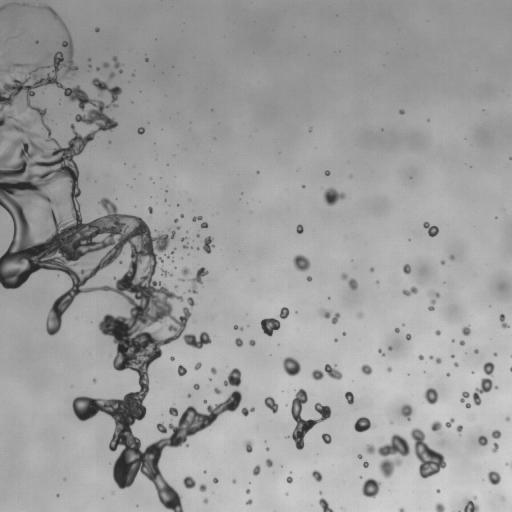droplet: (323, 187, 346, 206), (361, 478, 381, 498), (317, 307, 340, 324), (282, 356, 301, 376), (353, 416, 376, 432), (223, 368, 242, 386), (292, 254, 310, 271), (324, 364, 342, 380), (427, 289, 440, 310), (422, 221, 439, 237), (423, 387, 438, 404), (264, 396, 278, 413), (202, 235, 215, 253), (400, 403, 413, 421), (463, 497, 479, 511), (487, 470, 501, 485), (309, 368, 325, 380), (430, 420, 443, 434), (182, 476, 195, 489), (344, 391, 354, 405), (241, 406, 255, 416), (243, 439, 253, 453), (311, 470, 322, 482), (361, 364, 372, 375), (168, 406, 179, 417), (54, 30, 65, 41), (64, 77, 75, 88), (86, 86, 97, 97), (100, 90, 111, 101), (95, 130, 106, 141), (323, 178, 334, 189), (143, 215, 154, 226), (179, 217, 190, 228), (156, 224, 167, 235), (198, 255, 209, 266), (161, 259, 172, 270), (402, 276, 413, 287), (61, 278, 72, 289), (162, 278, 173, 289), (416, 289, 427, 300), (108, 290, 119, 301), (171, 306, 182, 317), (120, 308, 131, 319), (184, 323, 195, 334), (104, 334, 115, 345), (441, 358, 452, 369), (299, 365, 310, 376), (123, 367, 134, 378), (280, 405, 291, 416), (300, 409, 311, 420), (104, 415, 115, 426), (409, 417, 420, 428), (129, 421, 140, 432), (151, 430, 162, 441), (303, 430, 314, 441), (161, 445, 172, 456), (406, 451, 417, 462), (248, 453, 259, 464), (371, 453, 382, 464), (497, 466, 508, 477), (372, 470, 383, 481), (134, 471, 145, 482), (173, 482, 184, 493), (177, 364, 187, 376), (181, 266, 191, 277), (321, 433, 331, 444), (477, 435, 487, 446), (462, 324, 471, 336), (491, 429, 501, 439), (252, 464, 260, 476), (435, 502, 445, 511), (491, 442, 499, 453), (456, 424, 463, 436), (27, 54, 36, 63), (10, 129, 19, 138), (76, 176, 85, 185), (167, 194, 176, 203), (317, 196, 326, 205), (334, 198, 343, 207), (141, 213, 150, 222), (200, 228, 209, 237), (166, 239, 175, 248), (175, 247, 184, 256), (286, 260, 295, 269), (175, 336, 184, 345), (184, 361, 193, 370), (200, 364, 209, 373), (226, 384, 235, 393), (198, 405, 207, 414), (95, 410, 104, 419), (170, 416, 179, 425), (382, 436, 391, 445), (406, 437, 415, 446), (373, 439, 382, 448), (428, 441, 437, 450), (156, 459, 165, 468), (105, 465, 114, 474), (391, 465, 400, 474), (204, 479, 213, 488), (434, 494, 443, 503), (403, 264, 411, 274), (235, 337, 243, 347), (265, 458, 273, 467), (296, 224, 303, 234), (233, 324, 243, 331), (505, 313, 511, 324), (243, 505, 254, 511), (213, 387, 222, 394), (199, 483, 206, 492), (505, 460, 511, 470), (137, 127, 145, 134), (356, 311, 363, 319), (194, 362, 201, 370), (210, 366, 217, 374), (285, 476, 293, 483), (43, 0, 54, 5), (0, 144, 5, 155), (248, 339, 255, 346), (46, 13, 53, 20), (51, 19, 58, 26), (71, 40, 78, 47), (107, 64, 114, 71), (17, 74, 24, 81), (98, 75, 105, 82), (107, 81, 114, 88), (116, 92, 123, 99), (102, 108, 109, 115), (335, 186, 342, 193), (116, 207, 123, 214), (100, 209, 107, 216), (184, 213, 191, 220), (81, 216, 88, 223), (174, 231, 181, 238), (188, 231, 195, 238), (164, 246, 171, 253), (299, 249, 306, 256), (409, 264, 416, 271), (37, 267, 44, 274), (302, 269, 309, 276), (174, 270, 181, 277), (189, 270, 196, 277), (60, 271, 67, 278), (347, 271, 354, 278), (28, 272, 35, 279), (151, 273, 158, 280), (355, 277, 362, 284), (341, 279, 348, 286), (20, 281, 27, 288), (185, 281, 192, 288), (167, 285, 174, 292), (58, 287, 65, 294), (53, 291, 60, 298), (74, 293, 81, 300), (46, 300, 53, 307), (68, 302, 75, 309), (111, 310, 118, 317), (60, 312, 67, 319), (96, 314, 103, 321), (399, 328, 406, 335), (95, 329, 102, 336), (234, 330, 241, 337), (458, 333, 465, 340), (337, 334, 344, 341), (241, 337, 248, 344), (159, 344, 166, 351), (187, 344, 194, 351), (489, 356, 496, 363), (149, 360, 156, 367), (298, 361, 305, 368), (334, 364, 341, 371), (448, 365, 455, 372), (281, 371, 288, 378), (132, 372, 139, 379), (284, 373, 291, 380), (292, 373, 299, 380), (133, 384, 140, 391), (420, 385, 427, 392), (190, 388, 197, 395), (89, 392, 96, 399), (478, 392, 485, 399), (117, 393, 124, 400), (466, 395, 473, 402), (141, 399, 148, 406), (186, 399, 193, 406), (237, 401, 244, 408), (395, 403, 402, 410), (410, 403, 417, 410), (235, 405, 242, 412), (223, 409, 230, 416), (314, 412, 321, 419), (70, 413, 77, 420), (211, 419, 218, 426), (290, 419, 297, 426), (450, 421, 457, 428), (202, 426, 209, 433), (166, 428, 173, 435), (196, 429, 203, 436), (361, 429, 368, 436), (186, 434, 193, 441), (487, 436, 494, 443), (288, 438, 295, 445), (138, 444, 145, 451), (264, 451, 271, 458), (442, 455, 449, 462), (414, 459, 421, 466), (259, 462, 266, 469), (430, 473, 437, 480), (358, 478, 365, 485), (483, 478, 490, 485), (146, 479, 153, 486), (111, 481, 118, 488), (192, 484, 199, 491), (377, 485, 384, 492), (200, 490, 207, 497), (179, 497, 186, 504), (363, 460, 369, 468), (476, 506, 485, 511), (102, 62, 109, 68), (405, 333, 411, 340), (435, 357, 441, 364), (193, 383, 199, 390), (245, 499, 252, 505), (449, 254, 455, 260), (386, 366, 392, 372), (357, 453, 363, 459), (0, 247, 4, 256), (398, 109, 405, 114), (324, 170, 330, 175), (369, 267, 374, 273), (306, 276, 312, 281), (394, 327, 399, 333), (435, 330, 441, 335), (459, 340, 465, 345), (418, 354, 423, 360), (453, 362, 459, 367), (213, 477, 218, 483), (245, 488, 250, 494), (203, 497, 208, 503), (398, 507, 405, 511), (165, 507, 172, 511), (316, 507, 323, 511), (430, 507, 437, 511), (443, 507, 450, 511), (173, 218, 178, 223), (440, 260, 445, 265), (92, 378, 97, 383), (202, 399, 207, 404), (505, 416, 510, 421), (472, 495, 477, 500), (22, 5, 27, 10), (52, 6, 57, 11), (61, 16, 66, 21), (57, 39, 62, 44), (71, 55, 76, 60), (116, 57, 121, 62), (13, 58, 18, 63), (17, 58, 22, 63), (109, 60, 114, 65), (72, 61, 77, 66), (97, 62, 102, 67), (118, 64, 123, 69), (90, 65, 95, 70), (15, 66, 20, 71), (22, 67, 27, 72), (113, 68, 118, 73), (66, 71, 71, 76), (9, 80, 14, 85), (79, 85, 84, 90), (398, 104, 403, 109), (403, 107, 408, 112), (111, 126, 116, 131), (105, 128, 110, 133), (98, 129, 103, 134), (86, 140, 91, 145), (72, 155, 77, 160), (344, 191, 349, 196), (163, 192, 168, 197), (76, 195, 81, 200), (96, 195, 101, 200), (113, 200, 118, 205), (151, 206, 156, 211), (129, 210, 134, 215), (194, 211, 199, 216), (135, 212, 140, 217), (175, 213, 180, 218), (177, 217, 182, 222), (201, 217, 206, 222), (196, 219, 201, 224), (175, 221, 180, 226), (148, 226, 153, 231), (166, 231, 171, 236), (298, 232, 303, 237), (433, 234, 438, 239), (182, 239, 187, 244), (199, 241, 204, 246), (185, 247, 190, 252), (199, 248, 204, 253), (444, 257, 449, 262), (173, 260, 178, 265), (437, 263, 442, 268), (195, 264, 200, 269), (177, 265, 182, 270), (154, 266, 159, 271), (398, 266, 403, 271), (402, 272, 407, 277), (178, 273, 183, 278), (336, 273, 341, 278), (200, 275, 205, 280), (176, 280, 181, 285), (194, 281, 199, 286), (414, 283, 419, 288), (405, 285, 410, 290), (7, 287, 12, 292), (434, 287, 439, 292), (95, 289, 100, 294), (100, 289, 105, 294), (106, 289, 111, 294), (89, 290, 94, 295), (174, 290, 179, 295), (189, 292, 194, 297), (409, 292, 414, 297), (400, 293, 405, 298), (182, 294, 187, 299), (166, 297, 171, 302), (192, 297, 197, 302), (435, 297, 440, 302), (426, 301, 431, 306), (185, 303, 190, 308), (179, 311, 184, 316), (287, 312, 292, 317), (329, 312, 334, 317), (266, 313, 271, 318), (174, 314, 179, 319), (494, 314, 499, 319), (257, 316, 262, 321), (276, 316, 281, 321), (337, 316, 342, 321), (326, 317, 331, 322), (503, 317, 508, 322), (496, 320, 501, 325), (256, 322, 261, 327), (462, 322, 467, 327), (59, 323, 64, 328), (278, 325, 283, 330), (436, 325, 441, 330), (468, 325, 473, 330), (258, 327, 263, 332), (57, 328, 62, 333), (42, 329, 47, 334), (271, 329, 276, 334), (440, 330, 445, 335), (54, 331, 59, 336), (262, 332, 267, 337), (208, 334, 213, 339), (434, 334, 439, 339), (230, 339, 235, 344), (454, 339, 459, 344), (169, 340, 174, 345), (201, 343, 206, 348), (391, 344, 396, 349), (238, 345, 243, 350), (477, 346, 482, 351), (381, 347, 386, 352), (468, 348, 473, 353), (423, 354, 428, 359), (108, 357, 113, 362), (450, 357, 455, 362), (430, 358, 435, 363), (440, 358, 445, 363), (191, 360, 196, 365), (386, 361, 391, 366), (479, 361, 484, 366), (329, 362, 334, 367), (368, 362, 373, 367), (437, 362, 442, 367), (233, 363, 238, 368), (173, 365, 178, 370), (214, 365, 219, 370), (238, 367, 243, 372), (382, 368, 387, 373), (491, 369, 496, 374), (173, 370, 178, 375), (322, 370, 327, 375), (359, 371, 364, 376), (208, 372, 213, 377), (368, 372, 373, 377), (182, 373, 187, 378), (483, 373, 488, 378), (239, 375, 244, 380), (316, 378, 321, 383), (491, 380, 496, 385), (147, 383, 152, 388), (476, 383, 481, 388), (431, 384, 436, 389), (343, 387, 348, 392), (489, 387, 494, 392), (209, 388, 214, 393), (435, 388, 440, 393), (305, 390, 310, 395), (340, 390, 345, 395), (351, 390, 356, 395), (436, 391, 441, 396), (76, 392, 81, 397), (457, 393, 462, 398), (290, 394, 295, 399), (352, 396, 357, 401), (273, 398, 278, 403), (342, 398, 347, 403), (423, 399, 428, 404), (434, 400, 439, 405), (287, 401, 292, 406), (321, 401, 326, 406), (479, 401, 484, 406), (67, 402, 72, 407), (300, 402, 305, 407), (460, 402, 465, 407), (210, 403, 215, 408), (245, 404, 250, 409), (266, 407, 271, 412), (276, 407, 281, 412), (164, 409, 169, 414), (286, 409, 291, 414), (144, 410, 149, 415), (177, 411, 182, 416), (247, 411, 252, 416), (329, 411, 334, 416), (364, 413, 369, 418), (408, 413, 413, 418), (500, 414, 505, 419), (401, 415, 406, 420), (141, 416, 146, 421), (324, 417, 329, 422), (368, 417, 373, 422), (133, 418, 138, 423), (156, 418, 161, 423), (351, 418, 356, 423), (163, 422, 168, 427), (440, 422, 445, 427), (494, 425, 499, 430), (350, 426, 355, 431), (461, 426, 466, 431), (499, 433, 504, 438), (107, 434, 112, 439), (473, 435, 478, 440), (318, 437, 323, 442), (330, 437, 335, 442), (493, 437, 498, 442), (265, 441, 270, 446), (326, 442, 331, 447), (241, 446, 246, 451), (105, 447, 110, 452), (496, 447, 501, 452), (297, 448, 302, 453), (489, 451, 494, 456), (270, 457, 275, 462), (358, 458, 363, 463), (249, 464, 254, 469), (269, 465, 274, 470), (490, 466, 495, 471), (438, 467, 443, 472), (136, 470, 141, 475), (307, 470, 312, 475), (319, 470, 324, 475), (290, 473, 295, 478), (180, 474, 185, 479), (310, 476, 315, 481), (484, 476, 489, 481), (497, 480, 502, 485), (194, 482, 199, 487), (245, 483, 250, 488), (491, 483, 496, 488), (123, 486, 128, 491), (152, 489, 157, 494), (375, 492, 380, 497), (245, 494, 250, 499), (316, 494, 321, 499), (367, 495, 372, 500), (154, 496, 159, 501), (472, 499, 477, 504), (396, 503, 401, 508), (459, 505, 464, 510), (17, 0, 24, 3), (0, 82, 3, 89), (95, 27, 99, 32), (96, 66, 100, 71), (308, 127, 312, 132), (473, 349, 478, 353), (429, 355, 433, 360), (450, 354, 455, 358), (170, 356, 174, 361), (446, 372, 450, 377), (389, 420, 393, 425), (232, 478, 236, 483), (348, 174, 352, 178), (301, 184, 305, 188), (118, 260, 122, 264), (375, 280, 379, 284), (342, 331, 346, 335), (334, 338, 338, 342), (388, 346, 392, 350), (493, 352, 497, 356), (187, 393, 191, 397), (265, 447, 269, 451), (358, 475, 362, 479), (436, 489, 440, 493), (501, 496, 505, 500), (0, 0, 4, 4), (145, 57, 148, 62), (180, 213, 183, 218), (196, 232, 199, 237), (319, 490, 322, 495), (394, 508, 399, 511), (403, 508, 408, 511), (35, 40, 38, 44), (88, 64, 91, 68), (131, 73, 135, 76), (256, 170, 259, 174), (196, 246, 199, 250), (401, 323, 405, 326), (246, 324, 250, 327), (208, 378, 212, 381), (63, 477, 66, 481), (481, 478, 485, 481), (111, 490, 114, 494), (56, 493, 59, 497), (9, 0, 14, 2), (22, 0, 27, 2), (0, 1, 2, 6), (0, 112, 2, 117), (0, 204, 2, 209), (88, 58, 91, 61), (108, 140, 111, 143), (166, 163, 169, 166), (149, 177, 152, 180), (188, 198, 191, 201), (494, 216, 497, 219), (185, 230, 188, 233), (408, 238, 411, 241), (180, 256, 183, 259), (350, 259, 353, 262), (174, 266, 177, 269), (251, 279, 254, 282), (174, 285, 177, 288), (294, 311, 297, 314), (451, 339, 454, 342), (471, 371, 474, 374), (203, 470, 206, 473), (289, 470, 292, 473), (285, 492, 288, 495), (35, 3, 38, 6), (1, 9, 4, 12), (96, 24, 99, 27), (66, 25, 69, 28), (98, 28, 101, 31), (92, 30, 95, 33), (96, 31, 99, 34), (33, 37, 36, 40), (38, 40, 41, 43), (52, 50, 55, 53), (113, 52, 116, 55), (88, 54, 91, 57), (145, 54, 148, 57), (141, 58, 144, 61), (147, 58, 150, 61), (88, 61, 91, 64), (144, 61, 147, 64), (86, 66, 89, 69), (133, 71, 136, 74), (120, 72, 123, 75), (113, 100, 116, 103), (399, 113, 402, 116), (137, 124, 140, 127), (141, 124, 144, 127), (305, 127, 308, 130), (311, 128, 314, 131), (134, 130, 137, 133), (143, 131, 146, 134), (309, 131, 312, 134), (138, 133, 141, 136), (107, 143, 110, 146), (255, 167, 258, 170), (322, 168, 325, 171), (328, 168, 331, 171), (259, 170, 262, 173), (253, 171, 256, 174), (256, 173, 259, 176), (325, 175, 328, 178), (149, 179, 152, 182), (301, 181, 304, 184), (152, 183, 155, 186), (164, 186, 167, 189), (302, 187, 305, 190), (240, 188, 243, 191), (239, 194, 242, 197), (151, 195, 154, 198), (161, 197, 164, 200), (166, 198, 169, 201), (176, 200, 179, 203), (173, 202, 176, 205), (178, 204, 181, 207), (146, 209, 149, 212), (492, 213, 495, 216), (495, 213, 498, 216), (183, 214, 186, 217), (189, 216, 192, 219), (9, 217, 12, 220), (424, 218, 427, 221), (495, 218, 498, 221), (10, 221, 13, 224), (298, 221, 301, 224), (207, 224, 210, 227), (420, 224, 423, 227), (437, 226, 440, 229), (170, 227, 173, 230), (202, 227, 205, 230), (302, 227, 305, 230), (293, 229, 296, 232), (10, 231, 13, 234), (185, 233, 188, 236), (408, 235, 411, 238), (428, 235, 431, 238), (404, 237, 407, 240), (410, 238, 413, 241), (187, 243, 190, 246), (193, 246, 196, 249), (209, 246, 212, 249), (183, 247, 186, 250), (169, 254, 172, 257), (453, 254, 456, 257), (186, 255, 189, 258), (437, 261, 440, 264), (366, 267, 369, 270), (373, 267, 376, 270), (166, 273, 169, 276), (311, 276, 314, 279), (304, 279, 307, 282), (378, 279, 381, 282), (308, 280, 311, 283), (195, 288, 198, 291), (438, 291, 441, 294), (327, 293, 330, 296), (324, 296, 327, 299), (329, 297, 332, 300), (283, 304, 286, 307), (432, 304, 435, 307), (425, 308, 428, 311), (297, 310, 300, 313), (429, 310, 432, 313), (400, 320, 403, 323), (331, 323, 334, 326), (230, 325, 233, 328), (242, 325, 245, 328), (505, 327, 508, 330), (344, 329, 347, 332), (393, 331, 396, 334), (339, 332, 342, 335), (345, 332, 348, 335), (410, 334, 413, 337), (342, 335, 345, 338), (331, 337, 334, 340), (403, 337, 406, 340), (448, 338, 451, 341), (407, 339, 410, 342), (254, 340, 257, 343), (334, 341, 337, 344), (458, 344, 461, 347), (472, 346, 475, 349), (391, 348, 394, 351), (492, 349, 495, 352), (450, 351, 453, 354), (477, 351, 480, 354), (429, 352, 432, 355), (472, 352, 475, 355), (496, 352, 499, 355), (171, 353, 174, 356), (381, 355, 384, 358), (415, 356, 418, 359), (167, 358, 170, 361), (420, 359, 423, 362), (457, 361, 460, 364), (182, 364, 185, 367), (451, 364, 454, 367), (384, 365, 387, 368), (198, 367, 201, 370), (506, 367, 509, 370), (391, 368, 394, 371), (406, 369, 409, 372), (423, 372, 426, 375), (443, 372, 446, 375), (449, 372, 452, 375), (406, 375, 409, 378), (94, 376, 97, 379), (89, 378, 92, 381), (206, 379, 209, 382), (194, 380, 197, 383), (190, 383, 193, 386), (198, 386, 201, 389), (191, 387, 194, 390), (295, 388, 298, 391), (184, 393, 187, 396), (264, 394, 267, 397), (261, 399, 264, 402), (347, 403, 350, 406), (166, 407, 169, 410), (505, 413, 508, 416), (452, 415, 455, 418), (446, 418, 449, 421), (153, 424, 156, 427), (323, 430, 326, 433), (263, 436, 266, 439), (263, 444, 266, 447), (491, 444, 494, 447), (251, 447, 254, 450), (268, 447, 271, 450), (262, 448, 265, 451), (248, 451, 251, 454), (366, 459, 369, 462), (502, 460, 505, 463), (282, 464, 285, 467), (360, 464, 363, 467), (367, 464, 370, 467), (201, 467, 204, 470), (289, 467, 292, 470), (205, 468, 208, 471), (288, 473, 291, 476), (216, 476, 219, 479), (229, 480, 232, 483), (235, 480, 238, 483), (245, 480, 248, 483), (284, 480, 287, 483), (290, 481, 293, 484), (215, 482, 218, 485), (436, 485, 439, 488), (243, 487, 246, 490), (249, 489, 252, 492), (433, 489, 436, 492), (439, 489, 442, 492), (55, 490, 58, 493), (287, 491, 290, 494), (436, 492, 439, 495), (53, 494, 56, 497), (58, 494, 61, 497), (283, 494, 286, 497), (207, 499, 210, 502), (251, 500, 254, 503), (202, 502, 205, 505), (132, 504, 135, 507), (509, 156, 511, 160), (164, 198, 166, 202), (211, 108, 213, 111), (427, 118, 429, 121), (381, 128, 383, 131), (409, 176, 412, 178), (240, 192, 243, 194), (177, 203, 179, 206), (328, 296, 330, 299), (488, 305, 491, 307), (423, 370, 425, 373), (285, 403, 287, 406), (264, 440, 266, 443), (136, 504, 138, 507), (509, 153, 511, 156), (509, 159, 511, 162), (509, 324, 511, 327), (509, 416, 511, 419), (482, 109, 484, 111), (165, 190, 167, 192), (134, 205, 136, 207), (168, 204, 170, 206), (187, 253, 189, 255), (57, 274, 59, 276), (443, 281, 445, 283), (277, 343, 279, 345), (407, 373, 409, 375), (280, 465, 282, 467), (248, 482, 250, 484), (101, 497, 103, 499), (214, 137, 215, 139), (115, 198, 117, 199), (465, 352, 466, 354), (282, 390, 283, 392), (270, 354, 271, 355)
ligament: (472, 361, 498, 405), (260, 307, 290, 337), (340, 272, 358, 290), (318, 497, 334, 511), (460, 391, 471, 409), (192, 216, 208, 228), (112, 56, 123, 73), (402, 286, 418, 296), (499, 313, 509, 328), (445, 417, 455, 428), (378, 348, 385, 356), (180, 236, 189, 242), (148, 206, 153, 216), (170, 247, 176, 255), (171, 257, 174, 263), (509, 366, 511, 372), (451, 510, 460, 511), (130, 101, 133, 103), (510, 354, 511, 358)
